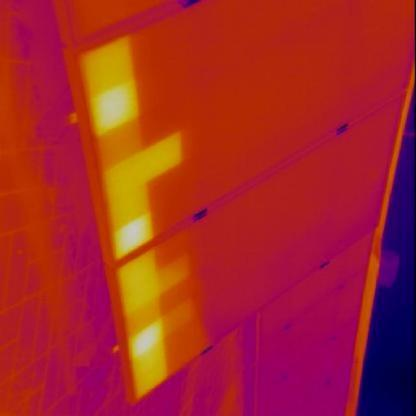anomaly: (74, 46, 175, 255), (117, 258, 173, 406)
